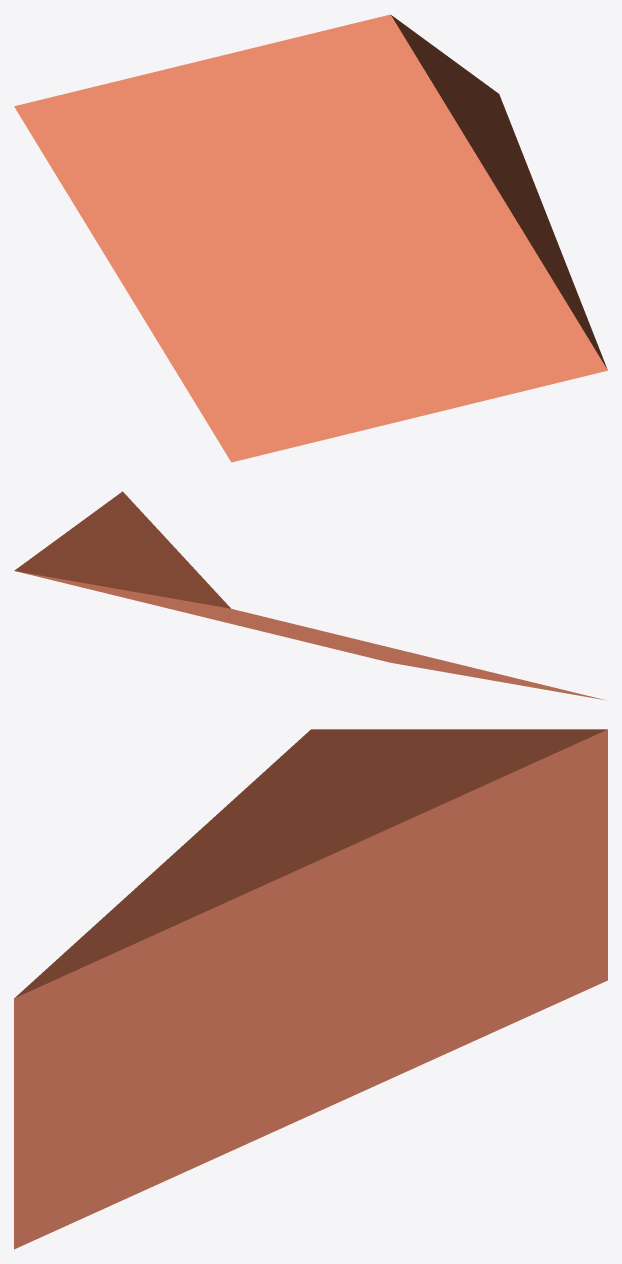
File: terrain_ramp.glb
3 views of the same model, one above another, from view 1: azimuth 30°, elevation 25°; view 2: azimuth 150°, elevation 25°; view 3: azimuth 270°, elevation 25° (orthographic). The views are drawn at different scales.
Visible parts, largest first — view 1: terrain_ramp; view 2: terrain_ramp; view 3: terrain_ramp.
Boxes of the visible parts, left/top/right/bottom form: terrain_ramp: left=14, top=14, right=607, bottom=462; terrain_ramp: left=14, top=491, right=605, bottom=700; terrain_ramp: left=14, top=729, right=607, bottom=1249.
Bounding box in the file's own units: 1 × 0.5 × 1.
